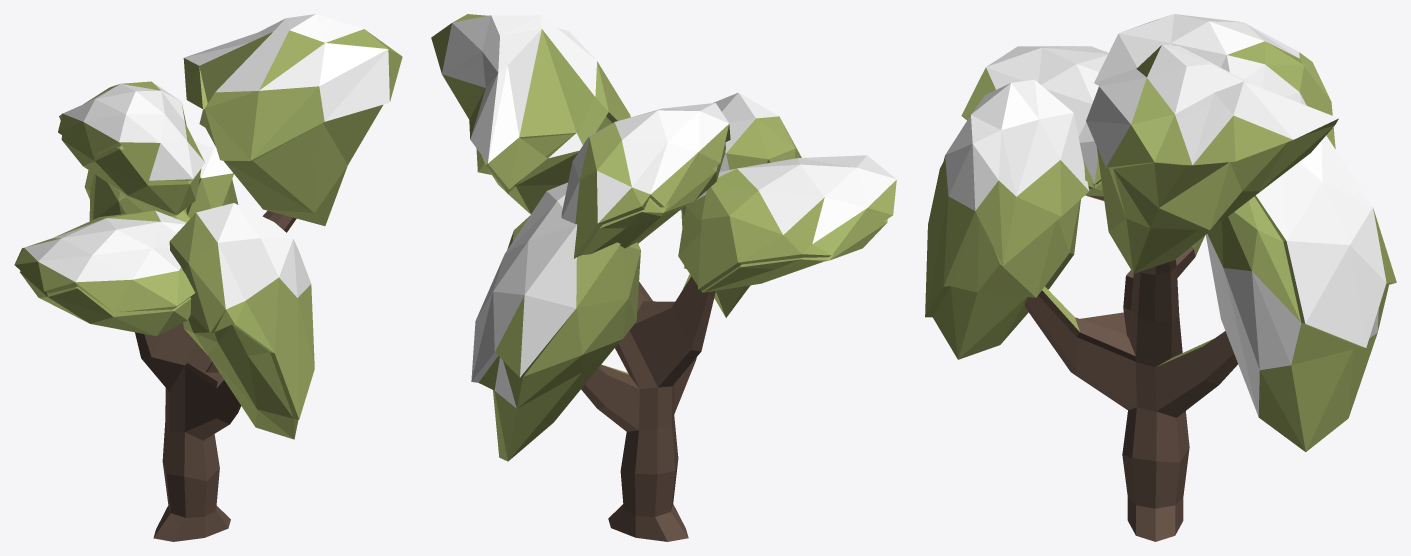
The model's file is tree_3 .fbx.
The picture shows the model from 3 angles, left to right: view 1: azimuth 30°, elevation 25°; view 2: azimuth 150°, elevation 25°; view 3: azimuth 270°, elevation 25°; orthographic projection. The views are drawn at different scales.
Parts seen in each view (by area): view 1: FirTree.289; view 2: FirTree.289; view 3: FirTree.289.
Boxes of the visible parts, x1,y1,x2,y2 form: FirTree.289: [14, 14, 402, 541]; FirTree.289: [431, 14, 896, 541]; FirTree.289: [925, 14, 1396, 541].
Bounding box in the file's own units: 634 × 711 × 573.
